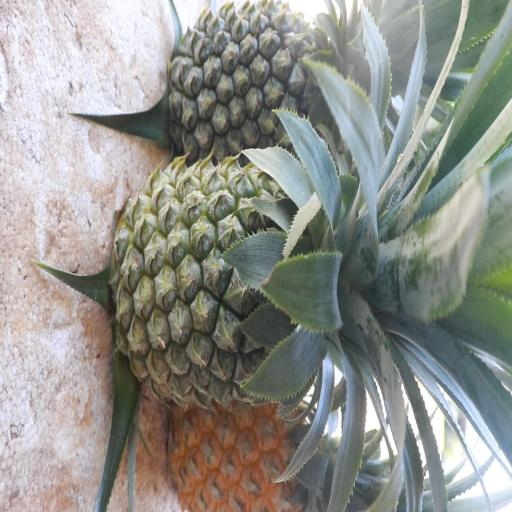------------------------------: (118, 169, 343, 398)
Pineapple - v8 v1: (171, 389, 344, 512)
